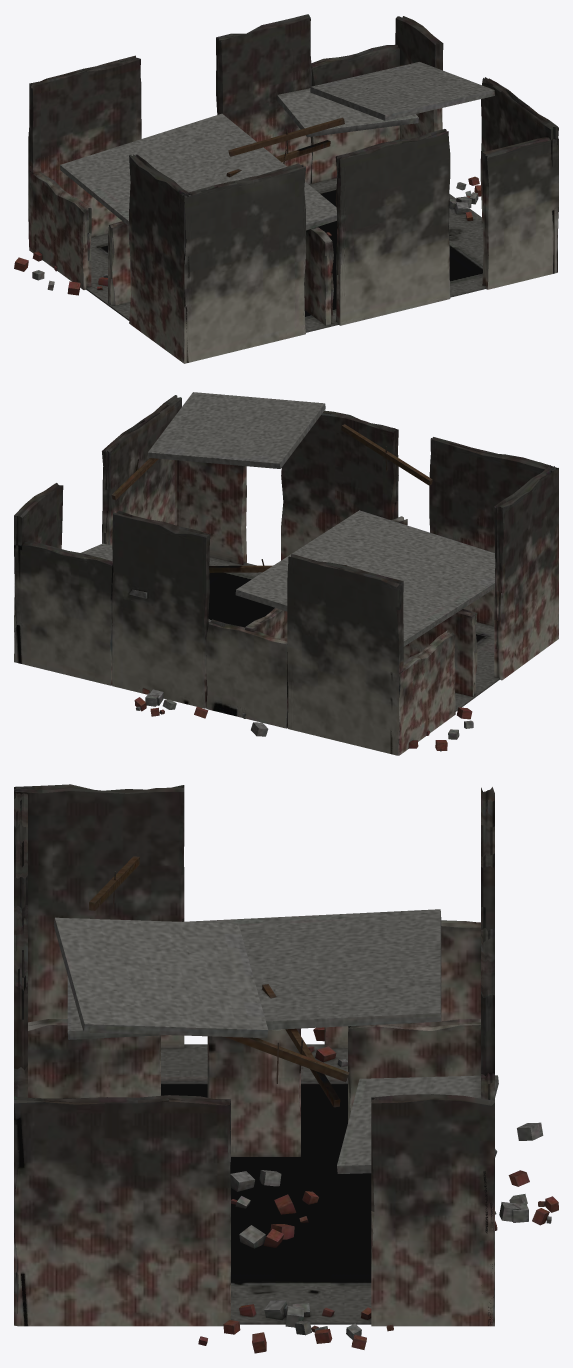
The model's file is predio.glb.
3 views of the same model, one above another, from view 1: azimuth 30°, elevation 25°; view 2: azimuth 150°, elevation 25°; view 3: azimuth 270°, elevation 25° (orthographic). The views are drawn at different scales.
Visible parts, largest first — view 1: predio; view 2: predio; view 3: predio.
Boxes of the visible parts, <box> form: predio: <box>14,14,558,363</box>; predio: <box>14,392,558,755</box>; predio: <box>14,784,558,1353</box>.
Bounding box in the file's own units: 16.8 × 6.91 × 11.67.
1 material, 1 textured.
